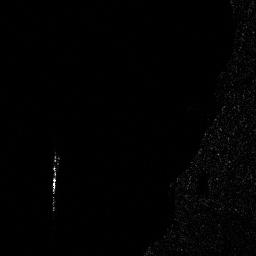ship: (50, 154, 60, 195)
